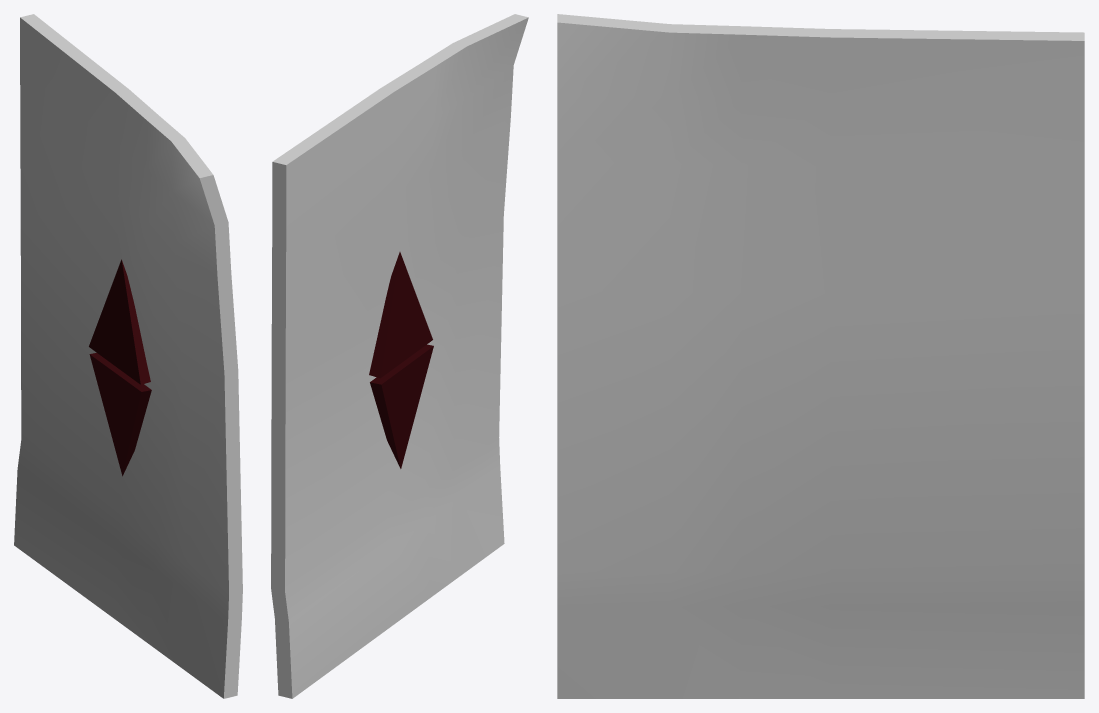
The model's file is simbolopereza.fbx.
The picture shows the model from 3 angles, left to right: view 1: azimuth 30°, elevation 25°; view 2: azimuth 150°, elevation 25°; view 3: azimuth 270°, elevation 25°; orthographic projection. The views are drawn at different scales.
Visible parts, largest first — view 1: Box001, Pyramid002, Pyramid003; view 2: Box001, Pyramid002, Pyramid003; view 3: Box001.
Part boxes in pixels (box(x1,y1,x2,y2)): Box001: box(14, 14, 242, 698); Pyramid002: box(89, 259, 150, 384); Pyramid003: box(89, 352, 151, 476); Box001: box(271, 14, 528, 698); Pyramid002: box(369, 252, 432, 378); Pyramid003: box(370, 344, 433, 468); Box001: box(557, 14, 1084, 698).
Bounding box in the file's own units: 1.71 × 18.99 × 13.72.
